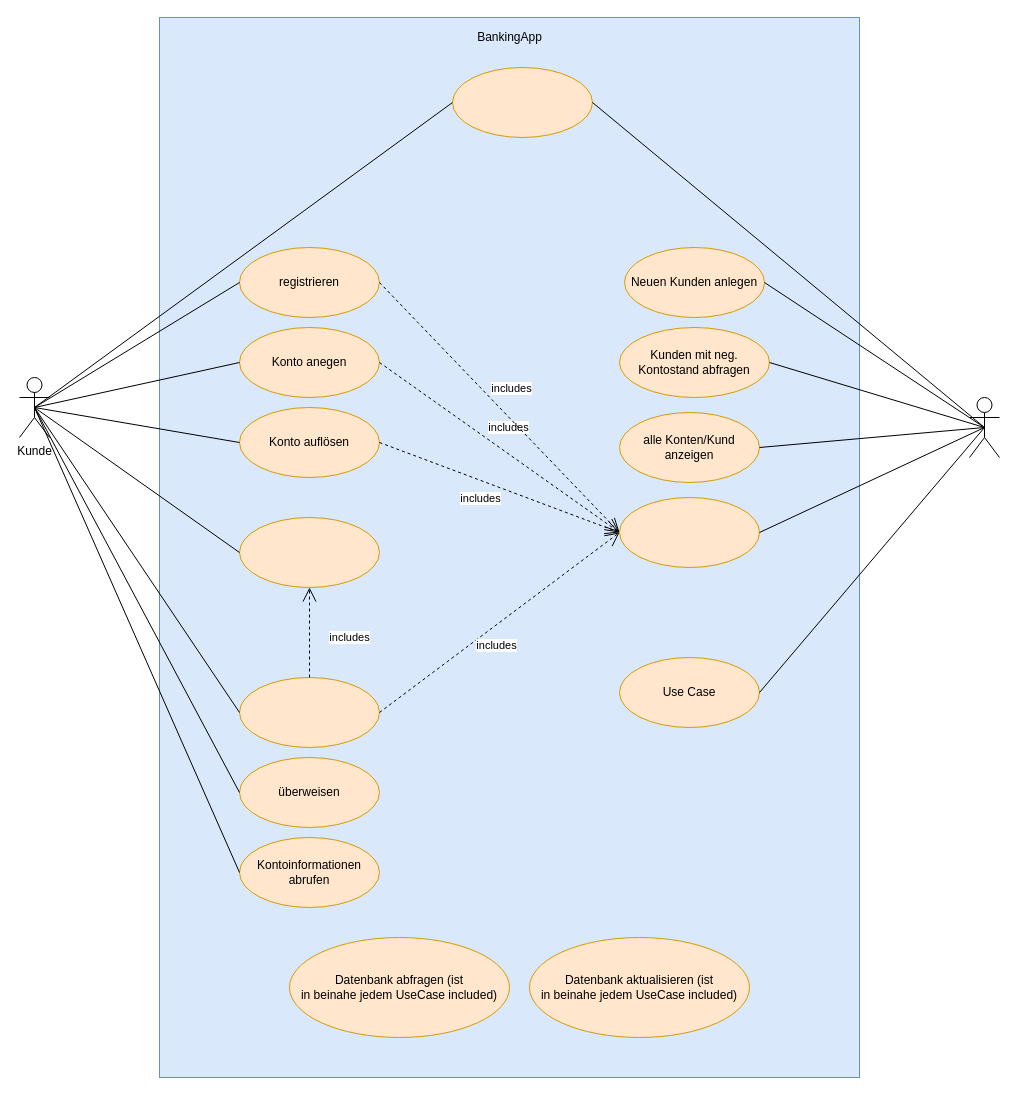
Image size: 1021x1095. Some labels were removed from this diagram. Each missing label, with the centre of its shape:
"anmelden/abmelden" goes at pixel 522 102.
"Banker" goes at pixel 984 427.
"Kontoeinstellungen anpassen" goes at pixel 309 712.
"Kontoeinstellungen anzeigen" goes at pixel 309 552.
"Änderungsanfrage freigeben" goes at pixel 689 532.
